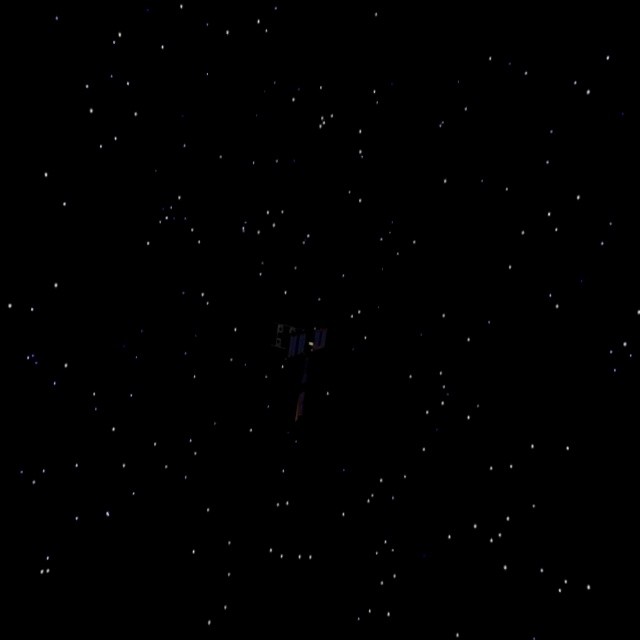satellite: (250, 293, 384, 428)
